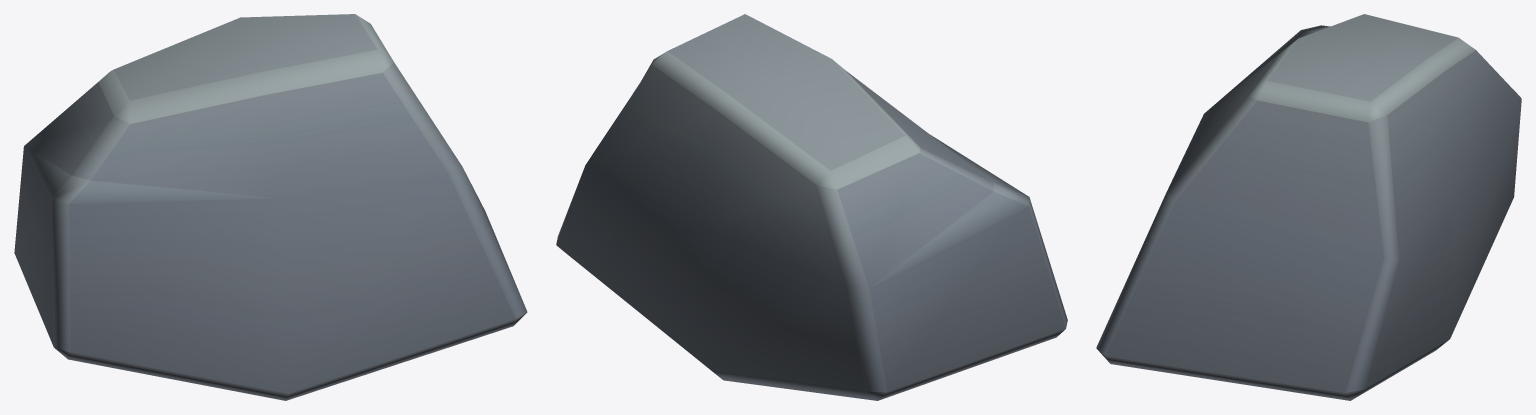
Rendered from rock_025.fbx.
The picture shows the model from 3 angles, left to right: view 1: azimuth 30°, elevation 25°; view 2: azimuth 150°, elevation 25°; view 3: azimuth 270°, elevation 25°; orthographic projection. The views are drawn at different scales.
Parts seen in each view (by area): view 1: rock_025; view 2: rock_025; view 3: rock_025.
Part boxes in pixels (x1,y1,x2,y2): rock_025: (14,14,527,400); rock_025: (556,14,1067,400); rock_025: (1096,14,1521,400).
Size of the model in its own units: 347 by 203 by 261.
